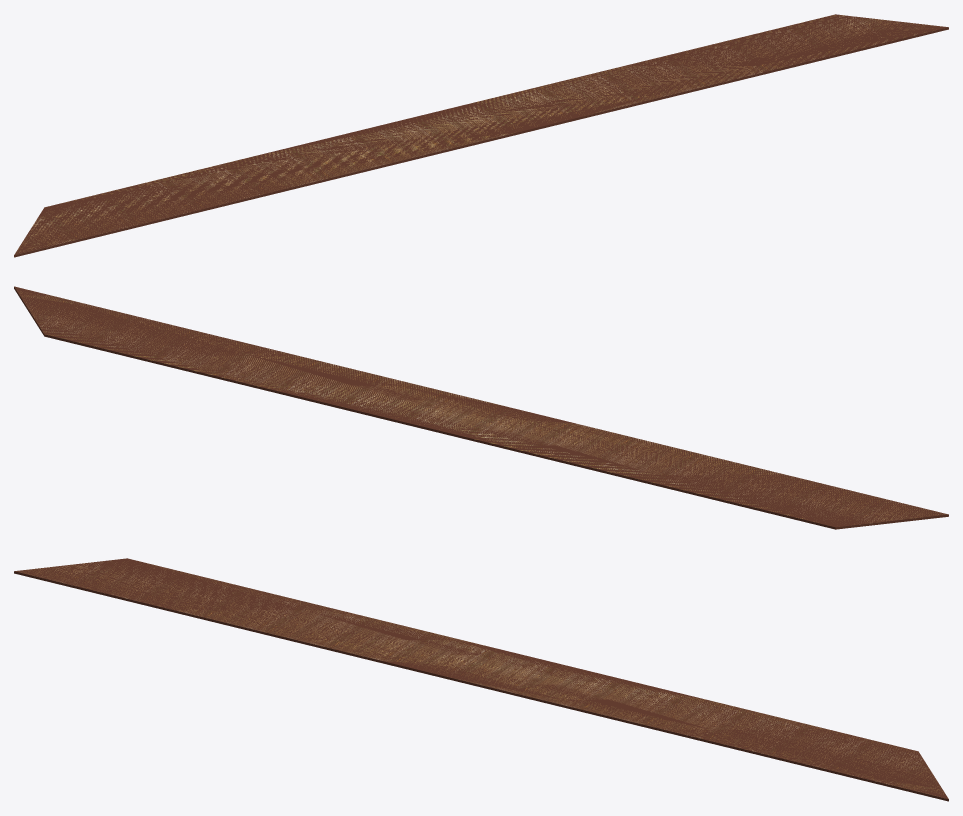
The model's file is original-32.obj.
The picture shows the model from 3 angles, top to bottom: view 1: azimuth 30°, elevation 25°; view 2: azimuth 150°, elevation 25°; view 3: azimuth 330°, elevation 25°; orthographic projection.
Visible parts, largest first — view 1: veneer_long1/veneer_long/mesh30/mesh30-geometry#mesh30-geometry; view 2: veneer_long1/veneer_long/mesh30/mesh30-geometry#mesh30-geometry; view 3: veneer_long1/veneer_long/mesh30/mesh30-geometry#mesh30-geometry.
Boxes of the visible parts, x1,y1,x2,y2 form: veneer_long1/veneer_long/mesh30/mesh30-geometry#mesh30-geometry: [14, 14, 948, 257]; veneer_long1/veneer_long/mesh30/mesh30-geometry#mesh30-geometry: [14, 286, 948, 529]; veneer_long1/veneer_long/mesh30/mesh30-geometry#mesh30-geometry: [14, 558, 948, 801].
Bounding box in the file's own units: 1.32 × 0.00304 × 0.1014.
